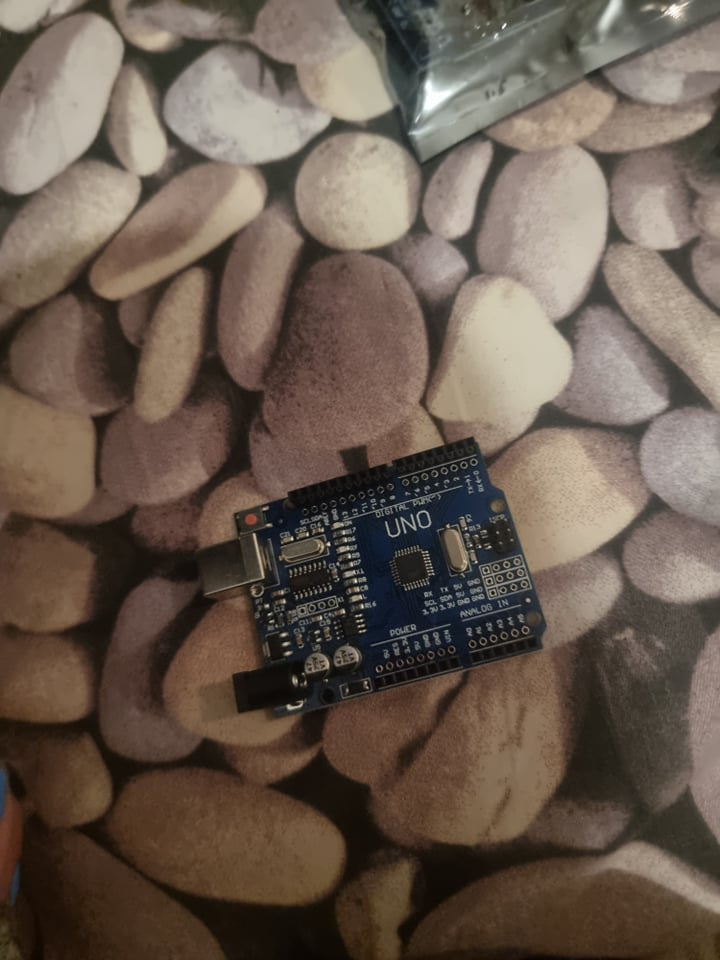UNO R3: (194, 434, 546, 722)
